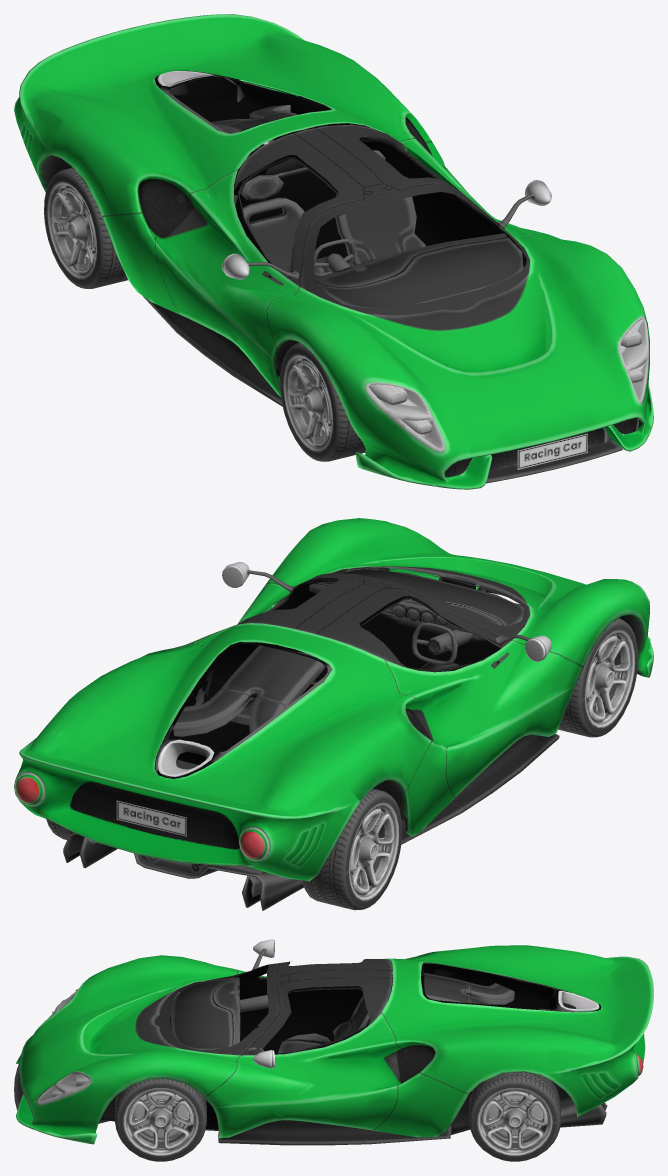
File: Sports Car .fbx
The picture shows the model from 3 angles, top to bottom: view 1: azimuth 30°, elevation 25°; view 2: azimuth 150°, elevation 25°; view 3: azimuth 270°, elevation 25°; orthographic projection. The views are drawn at different scales.
Parts seen in each view (by area): view 1: Object016; view 2: Object016; view 3: Object016.
Part boxes in pixels (left/top/right/bottom): Object016: left=14, top=14, right=653, bottom=489; Object016: left=14, top=518, right=653, bottom=910; Object016: left=14, top=939, right=653, bottom=1161.
Bounding box in the file's own units: 711 × 379 × 1624.
